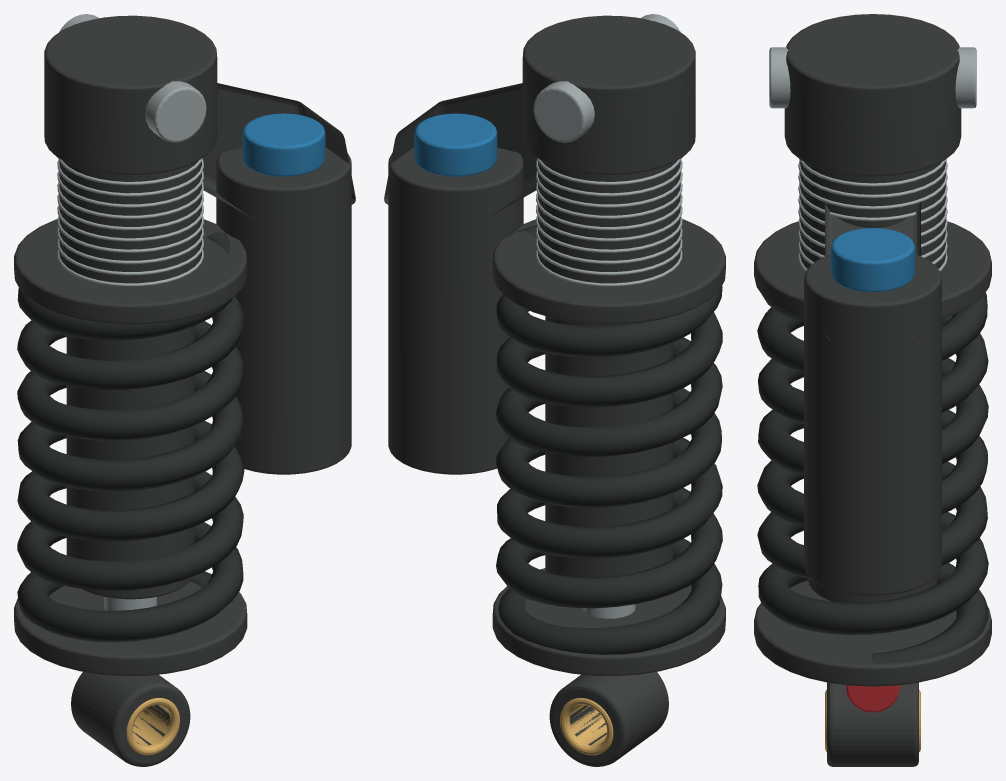
File: marzocchi-bomber-cr--126ffadc.glb
3 renders of one model, left to right at view 1: azimuth 30°, elevation 25°; view 2: azimuth 150°, elevation 25°; view 3: azimuth 270°, elevation 25°, orthographic.
Parts seen in each view (by area): view 1: marzocchi-bomber-cr--126ffadc__link, marzocchi-bomber-cr--126ffadc__coil, marzocchi-bomber-cr--126ffadc__bolts, marzocchi-bomber-cr--126ffadc__adjuster, marzocchi-bomber-cr--126ffadc__stanchions; view 2: marzocchi-bomber-cr--126ffadc__link, marzocchi-bomber-cr--126ffadc__coil, marzocchi-bomber-cr--126ffadc__bolts, marzocchi-bomber-cr--126ffadc__adjuster, marzocchi-bomber-cr--126ffadc__stanchions; view 3: marzocchi-bomber-cr--126ffadc__link, marzocchi-bomber-cr--126ffadc__coil, marzocchi-bomber-cr--126ffadc__bolts, marzocchi-bomber-cr--126ffadc__adjuster, marzocchi-bomber-cr--126ffadc__rebound.
Boxes of the visible parts, x1,y1,x2,y2 form: marzocchi-bomber-cr--126ffadc__link: (14,15,355,766); marzocchi-bomber-cr--126ffadc__coil: (17,231,244,642); marzocchi-bomber-cr--126ffadc__bolts: (57,14,206,610); marzocchi-bomber-cr--126ffadc__adjuster: (242,113,325,176); marzocchi-bomber-cr--126ffadc__stanchions: (126,698,179,755); marzocchi-bomber-cr--126ffadc__link: (384,15,725,766); marzocchi-bomber-cr--126ffadc__coil: (495,225,722,654); marzocchi-bomber-cr--126ffadc__bolts: (533,14,682,618); marzocchi-bomber-cr--126ffadc__adjuster: (414,113,497,176); marzocchi-bomber-cr--126ffadc__stanchions: (560,698,613,755); marzocchi-bomber-cr--126ffadc__link: (754,14,991,766); marzocchi-bomber-cr--126ffadc__coil: (757,292,988,663); marzocchi-bomber-cr--126ffadc__bolts: (769,47,976,271); marzocchi-bomber-cr--126ffadc__adjuster: (830,228,915,292); marzocchi-bomber-cr--126ffadc__rebound: (846,685,899,712).
Bounding box in the file's own units: 0.096 × 0.205 × 0.062.
